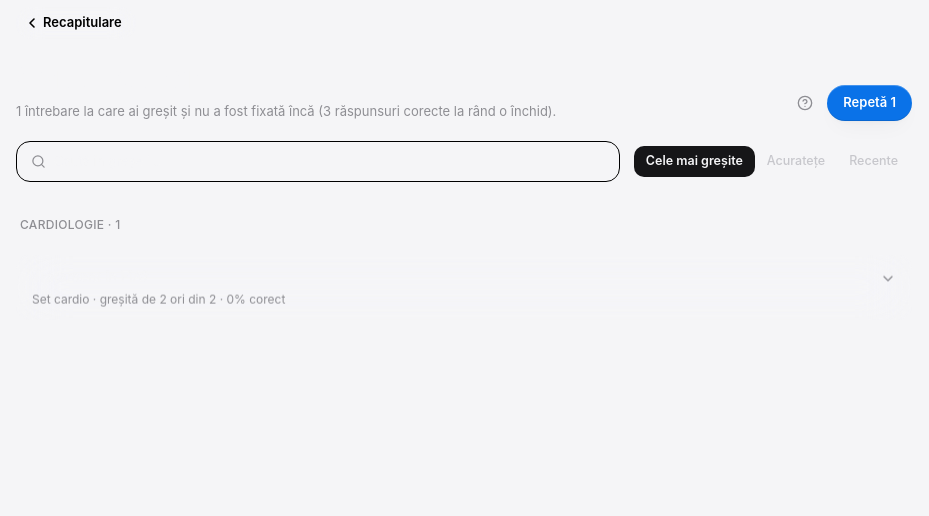
Scenario: ErrorNotebook › listează greșeala pe disciplină și îi arată răspunsul și explicația la deschidere
Expected: the heading "Cardiologie · 1" is shown, [20,217,121,232]
Click the button "Tratament în FiA": (91, 276) [16,255,912,320]
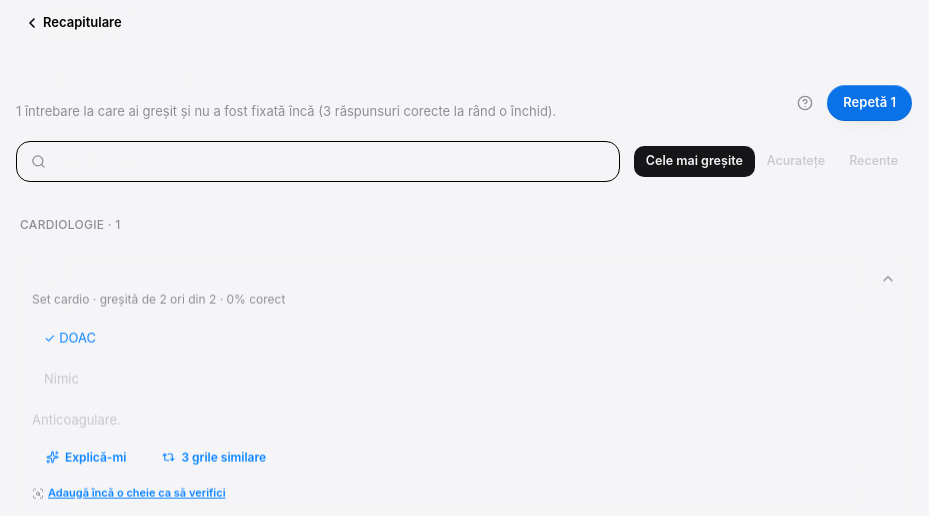
Expected: the text "Anticoagulare." is shown, [32,411,121,427]
Expected: the list item "✓ DOAC" is shown, [44,329,96,345]
